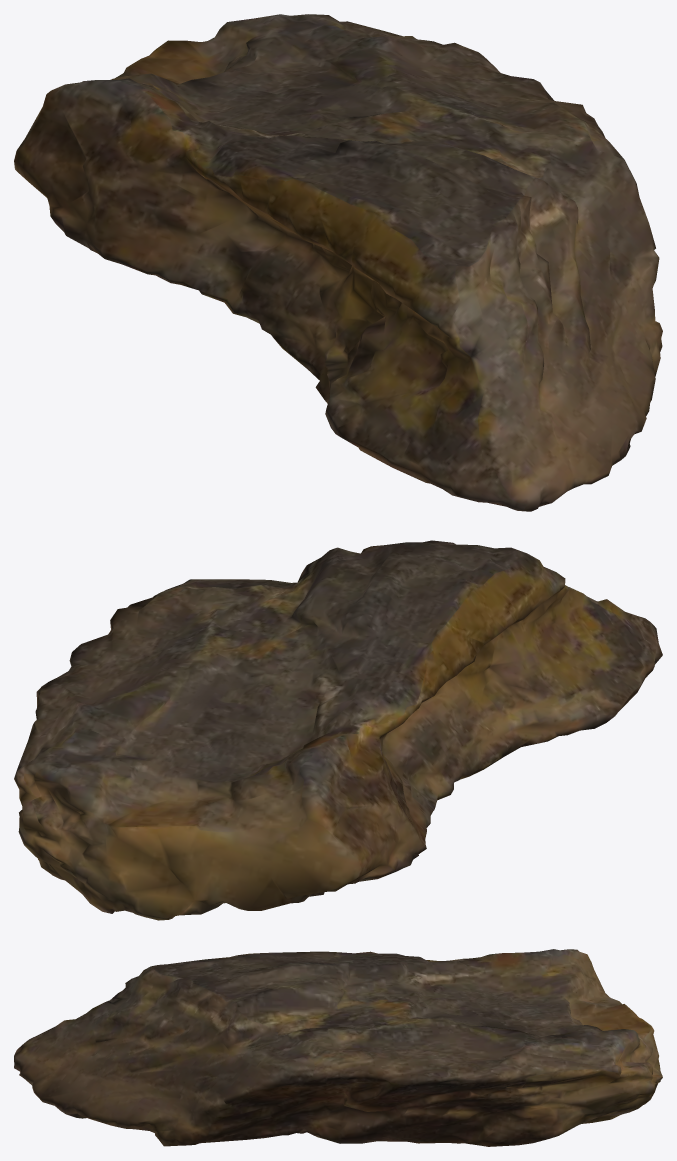
File: rock_09.glb
3 views of the same model, one above another, from view 1: azimuth 30°, elevation 25°; view 2: azimuth 150°, elevation 25°; view 3: azimuth 270°, elevation 25° (orthographic). The views are drawn at different scales.
Parts seen in each view (by area): view 1: rock_09_LOD0; view 2: rock_09_LOD0; view 3: rock_09_LOD0.
Boxes of the visible parts, x1,y1,x2,y2 form: rock_09_LOD0: (14,14,662,511); rock_09_LOD0: (14,540,662,920); rock_09_LOD0: (14,949,662,1146).
Size of the model in its own units: 0.074 by 0.0328 by 0.1446.
Materials: 1 (1 with a texture image).
